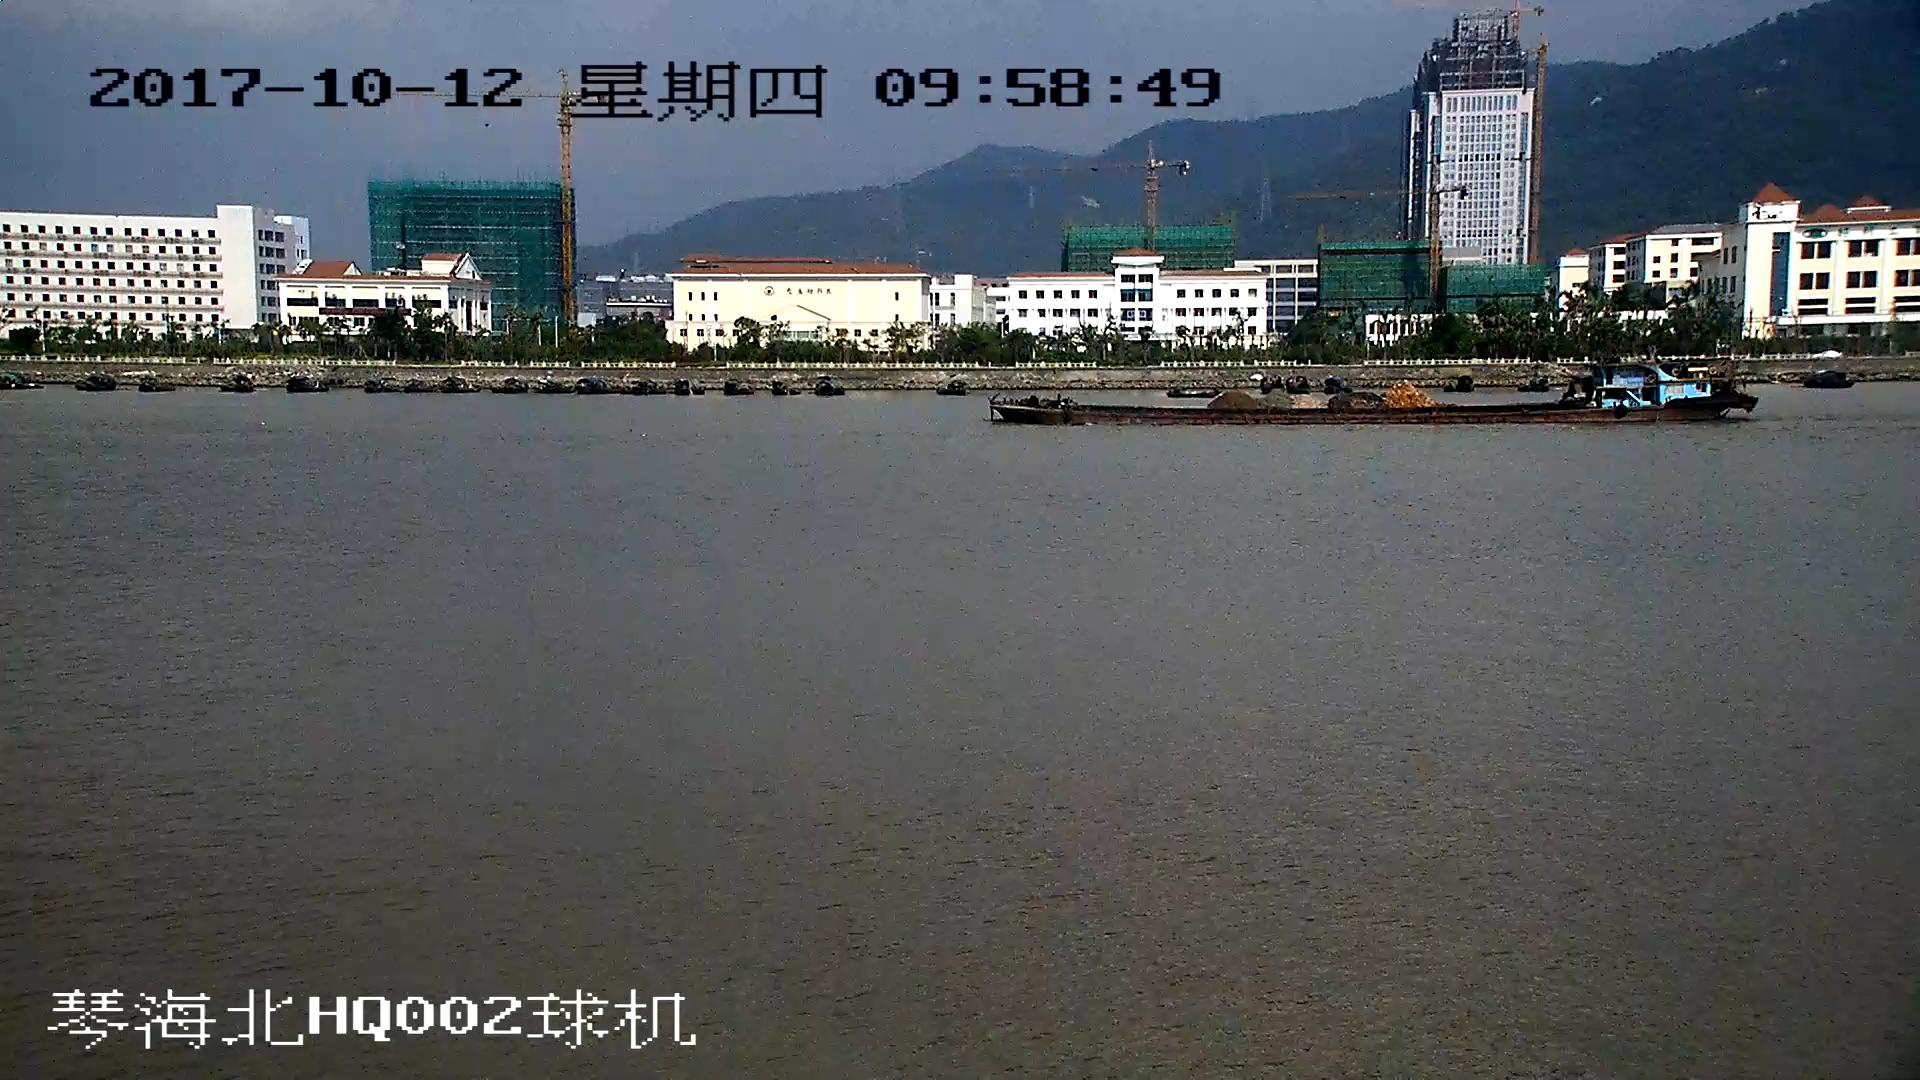ore carrier: (997, 360, 1760, 424)
